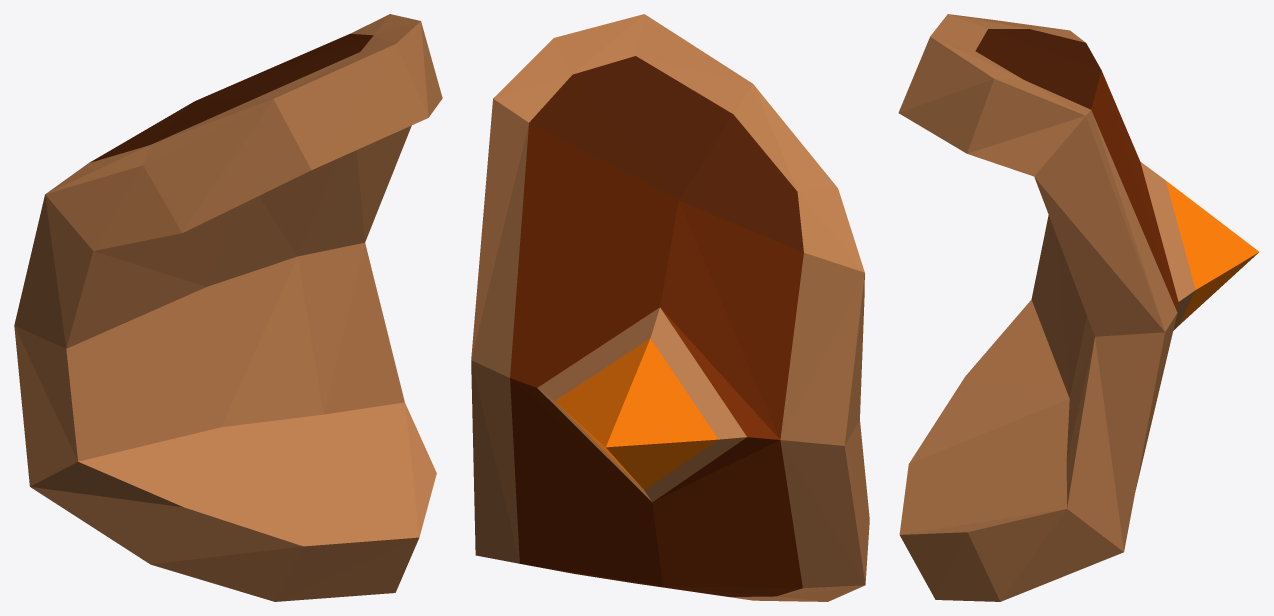
The model's file is Pauldron 04.FBX.
3 views of the same model, side by side, from view 1: azimuth 30°, elevation 25°; view 2: azimuth 150°, elevation 25°; view 3: azimuth 270°, elevation 25° (orthographic). The views are drawn at different scales.
Visible parts, largest first — view 1: Pauldron 04; view 2: Pauldron 04; view 3: Pauldron 04.
Boxes of the visible parts, x1,y1,x2,y2 form: Pauldron 04: (14, 14, 442, 601); Pauldron 04: (471, 14, 869, 601); Pauldron 04: (898, 14, 1258, 601).
Bounding box in the file's own units: 14.5 × 20.43 × 11.89.
